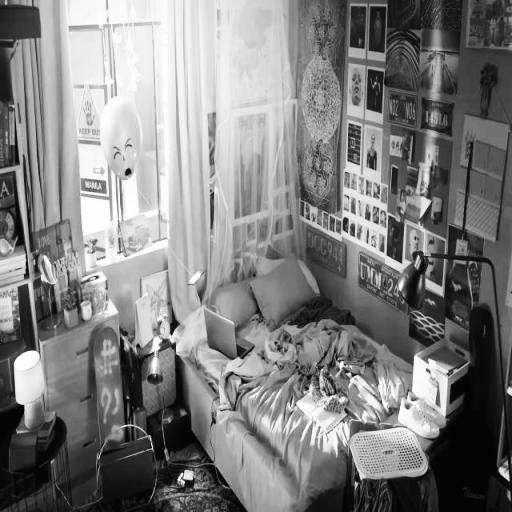balloon: (101, 100, 141, 180)
